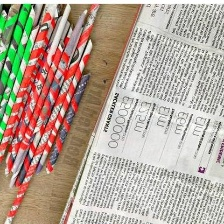news_paper: (57, 4, 224, 224)
